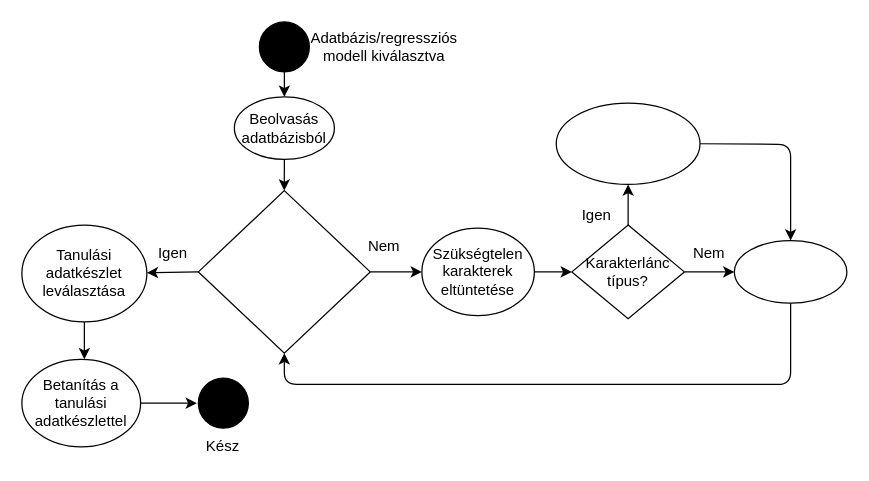
The diagram is 869 pixels wide and 481 high, and some of its shapes have lost their labels. Each missing label, with the centre of its shape:
"Adat normalizálás" goes at (790,271).
"Minden oszlop adatain végigiteráltunk?" goes at (283,271).
"One hot encoding (számmá alakítás)" goes at (627,143).
